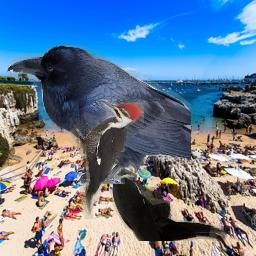Crow: (7, 45, 191, 184)
Woodpecker: (74, 134, 230, 241), (70, 99, 144, 219)
